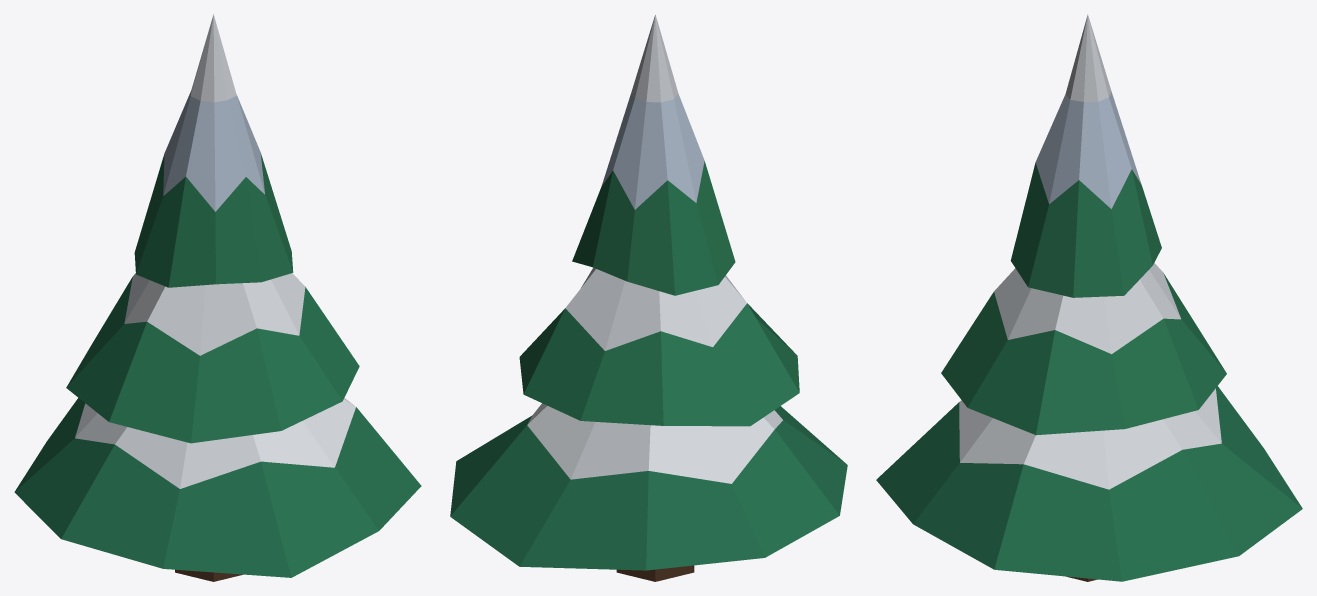
The model's file is Pine_Small.glb.
3 views of the same model, side by side, from view 1: azimuth 30°, elevation 25°; view 2: azimuth 150°, elevation 25°; view 3: azimuth 270°, elevation 25° (orthographic).
Parts seen in each view (by area): view 1: Pine_Small; view 2: Pine_Small; view 3: Pine_Small.
Boxes of the visible parts, x1,y1,x2,y2 form: Pine_Small: (14,14,421,581); Pine_Small: (450,14,847,581); Pine_Small: (876,14,1302,581).
Bounding box in the file's own units: 4.49 × 6.72 × 4.73.
